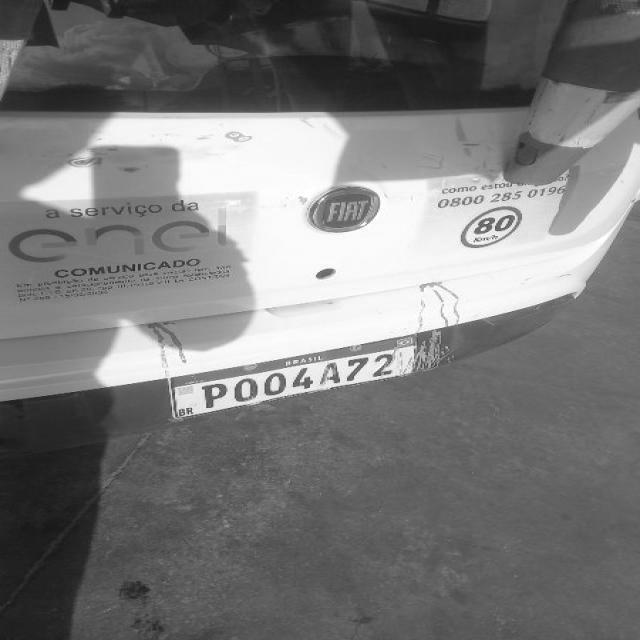placa_mercosul: (170, 332, 417, 422)
